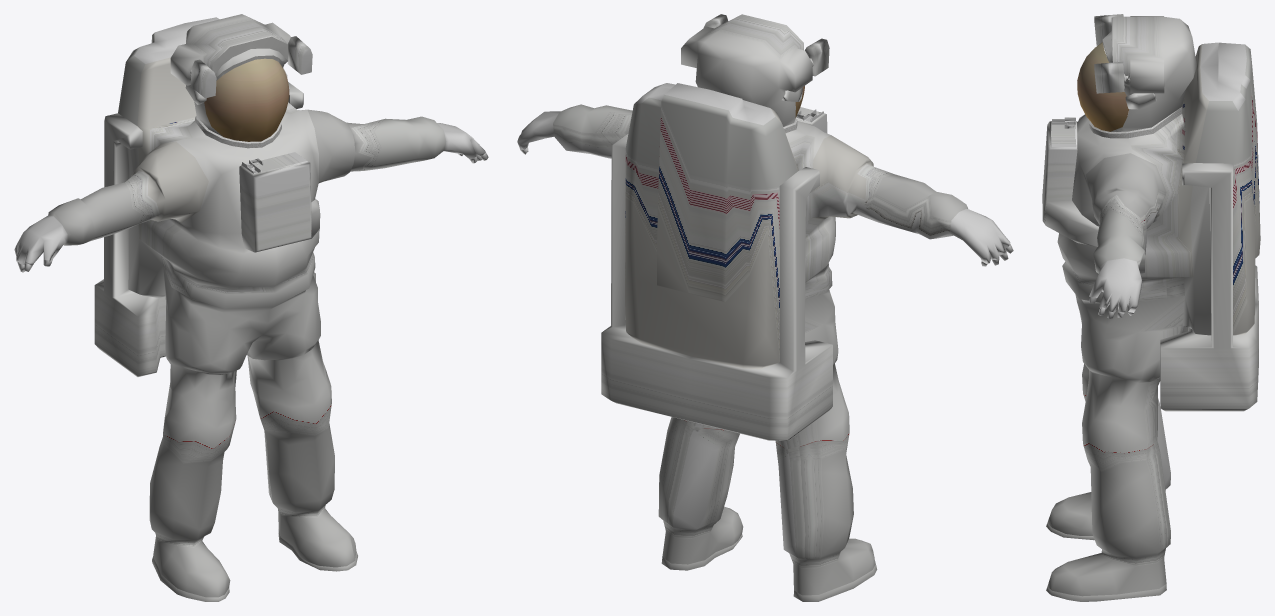
File: astronaut.glb
3 renders of one model, left to right at view 1: azimuth 30°, elevation 25°; view 2: azimuth 150°, elevation 25°; view 3: azimuth 270°, elevation 25°, orthographic. The views are drawn at different scales.
Visible parts, largest first — view 1: astronaut1; view 2: astronaut1; view 3: astronaut1.
Boxes of the visible parts, left/top/right/bottom form: astronaut1: left=14, top=14, right=488, bottom=601; astronaut1: left=517, top=14, right=1013, bottom=601; astronaut1: left=1042, top=14, right=1260, bottom=601.
Size of the model in its own units: 68.91 by 74.26 by 27.56.
2 materials, 2 textured.
